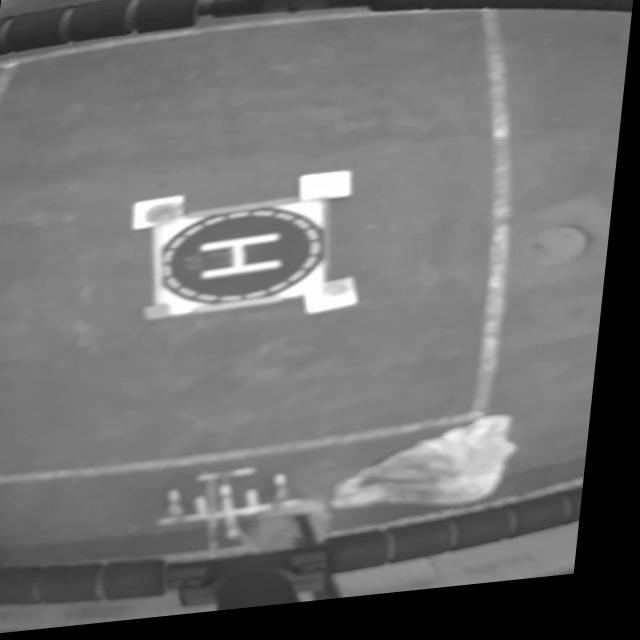Helipad: (203, 238, 289, 285)
